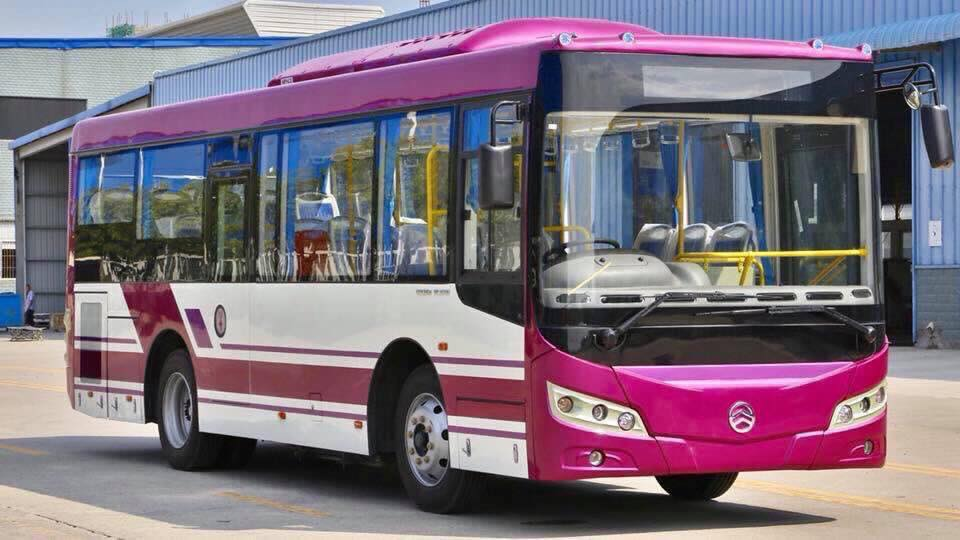bus: (62, 17, 890, 516)
